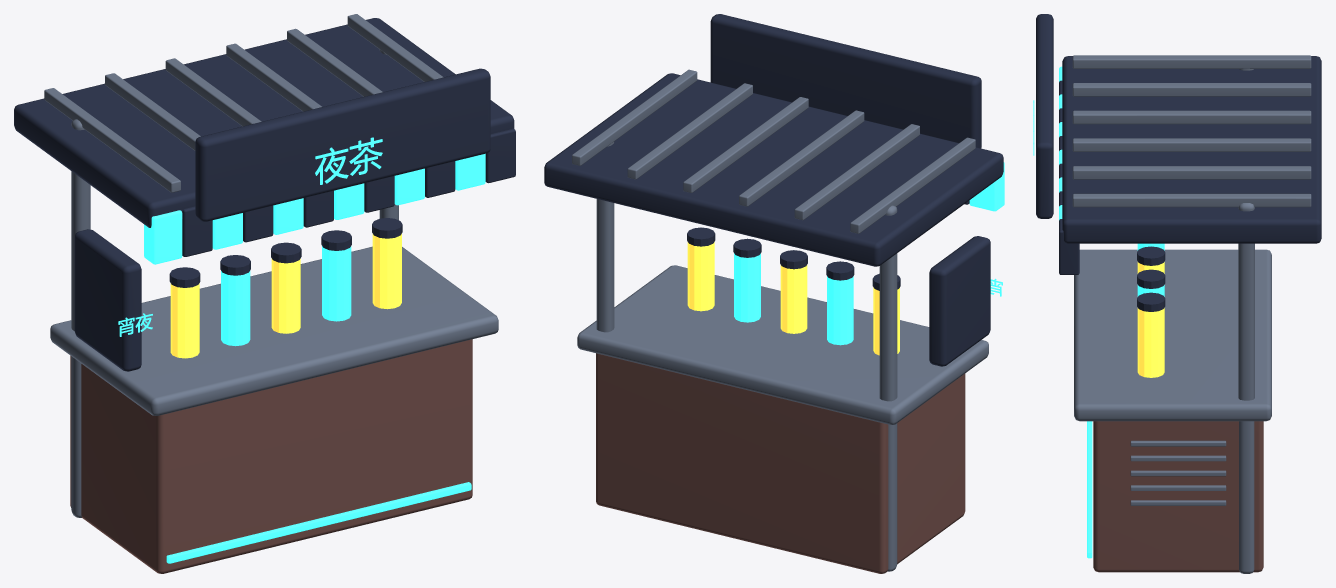
File: stall_tea.glb
3 renders of one model, left to right at view 1: azimuth 30°, elevation 25°; view 2: azimuth 150°, elevation 25°; view 3: azimuth 270°, elevation 25°, orthographic. The views are drawn at different scales.
Parts seen in each view (by area): view 1: Counter.001, Countertop.001, Roof.001, Sign backing.001, Side menu.001, Post.002, Kick neon.001, Roof rib.006, Tea bottle, Tea bottle.002, Tea bottle.004, Tea bottle.003 (+19 smaller); view 2: Counter.001, Roof.001, Countertop.001, Sign backing.001, Side menu.001, Post.002, Post.003, Roof rib.008, Roof rib.010, Roof rib.007, Roof rib.009, Roof rib.011 (+7 smaller); view 3: Roof.001, Countertop.001, Counter.001, Post.003, Sign backing.001, Roof rib.008, Roof rib.011, Roof rib.006, Roof rib.007, Roof rib.010, Roof rib.009, Tea bottle.004 (+10 smaller).
Boxes of the visible parts, x1,y1,x2,y2 form: Counter.001: (70,339,472,573); Countertop.001: (50,246,498,415); Roof.001: (14,18,514,227); Sign backing.001: (195,68,490,221); Side menu.001: (74,229,141,371); Post.002: (71,119,90,517); Kick neon.001: (166,482,471,563); Roof rib.006: (44,88,180,192); Tea bottle: (170,283,199,358); Tea bottle.002: (271,258,300,333); Tea bottle.004: (372,233,401,309); Tea bottle.003: (322,246,351,321); Counter.001: (596,353,965,573); Roof.001: (544,73,1003,266); Countertop.001: (577,265,988,424); Sign backing.001: (710,14,981,148); Side menu.001: (929,236,990,366); Post.002: (879,205,897,571); Post.003: (596,142,614,332); Roof rib.008: (739,110,864,206); Roof rib.010: (627,83,752,179); Roof rib.007: (794,124,919,220); Roof rib.009: (683,97,808,192); Roof rib.011: (572,69,697,165); Roof.001: (1062,56,1321,243); Countertop.001: (1074,249,1271,421); Counter.001: (1093,421,1263,572); Post.003: (1238,203,1254,573); Sign backing.001: (1036,14,1053,218); Roof rib.008: (1072,110,1311,124); Roof rib.011: (1072,193,1311,207); Roof rib.006: (1072,55,1311,68); Roof rib.007: (1072,83,1311,96); Roof rib.010: (1072,166,1311,179); Roof rib.009: (1072,138,1311,151); Tea bottle.004: (1137,308,1164,377).
Bounding box in the file's own units: 3.01 × 3.43 × 2.11.
